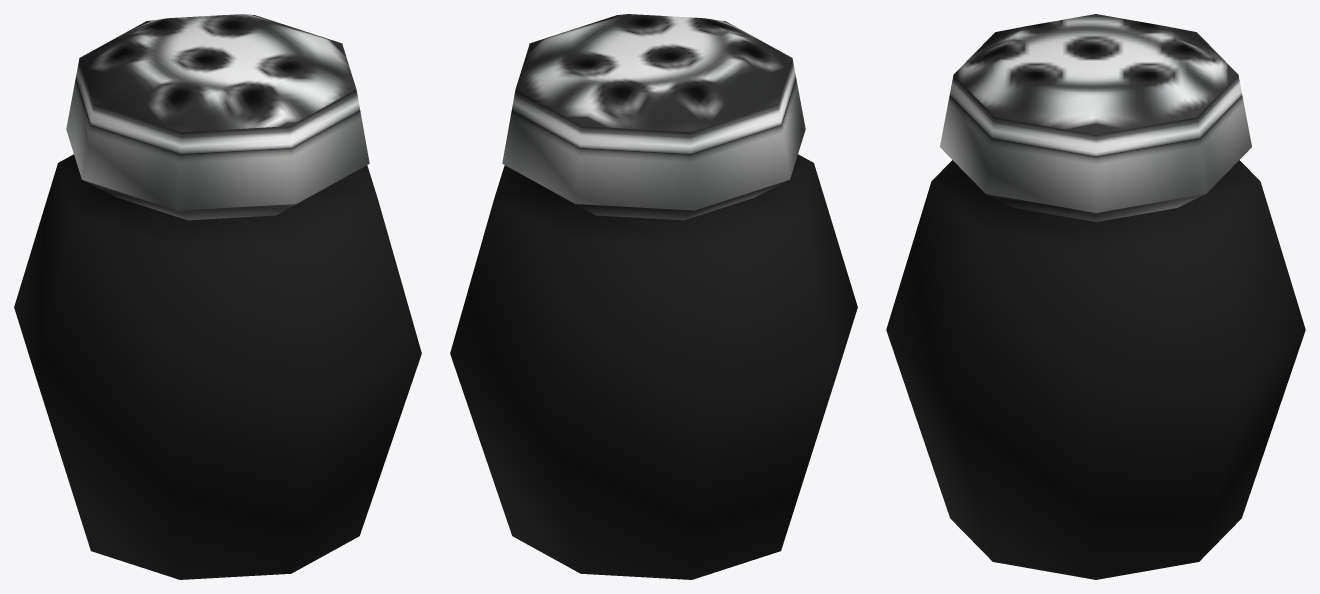
Rendered from Pepper.FBX.
3 renders of one model, left to right at view 1: azimuth 30°, elevation 25°; view 2: azimuth 150°, elevation 25°; view 3: azimuth 270°, elevation 25°, orthographic.
Parts seen in each view (by area): view 1: Shaker; view 2: Shaker; view 3: Shaker.
Part boxes in pixels (left/top/right/bottom): Shaker: left=14, top=14, right=421, bottom=579; Shaker: left=450, top=14, right=857, bottom=579; Shaker: left=886, top=14, right=1305, bottom=579.
Bounding box in the file's own units: 22.58 × 27.47 × 22.58.
